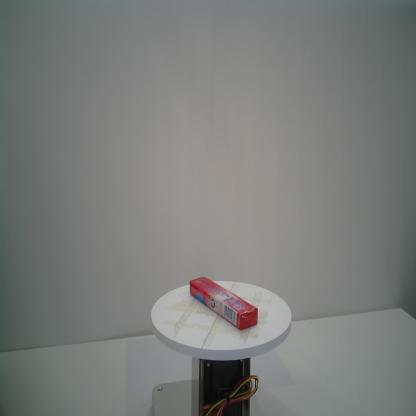Candy: (188, 274, 259, 332)
